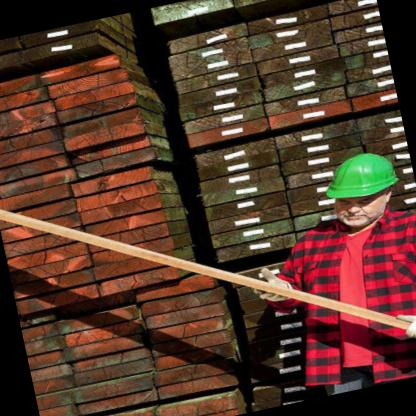helmet: (310, 138, 410, 239)
